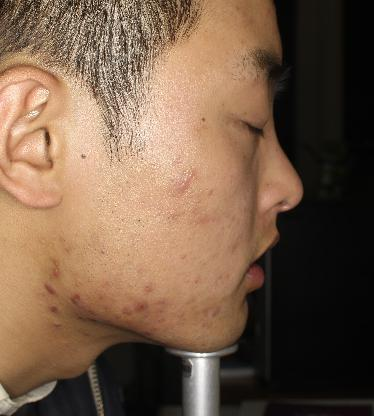Blackheads: (197, 111, 212, 127), (77, 150, 90, 162)
Nodules: (168, 164, 196, 197), (39, 278, 61, 298)
Papules: (44, 299, 65, 319), (203, 183, 218, 199), (49, 317, 66, 330), (135, 300, 148, 314), (70, 290, 85, 301), (67, 298, 82, 307)
acne scar: (140, 279, 159, 296), (119, 302, 138, 317), (209, 302, 223, 320), (199, 300, 212, 316)
